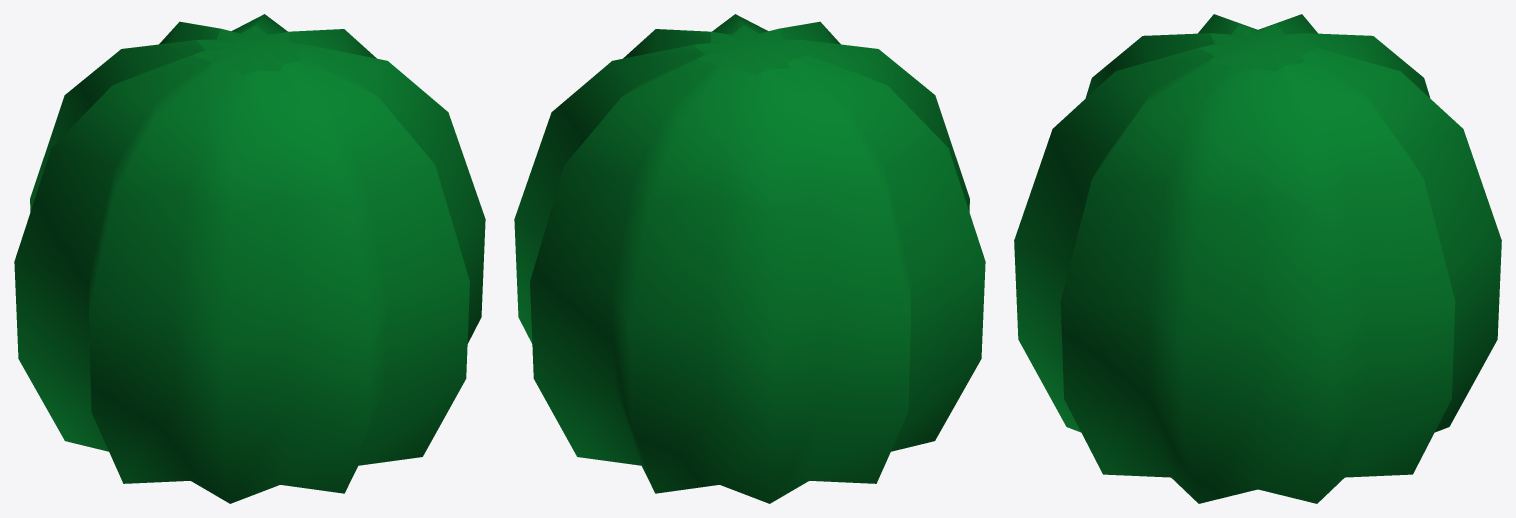
File: Cactus.fbx
The picture shows the model from 3 angles, left to right: view 1: azimuth 30°, elevation 25°; view 2: azimuth 150°, elevation 25°; view 3: azimuth 270°, elevation 25°; orthographic projection.
Visible parts, largest first — view 1: Cactus; view 2: Cactus; view 3: Cactus.
Part boxes in pixels (bbox=[...]): Cactus: bbox=[14, 14, 485, 503]; Cactus: bbox=[514, 14, 985, 503]; Cactus: bbox=[1014, 14, 1501, 503].
Bounding box in the file's own units: 146 × 133 × 154.
